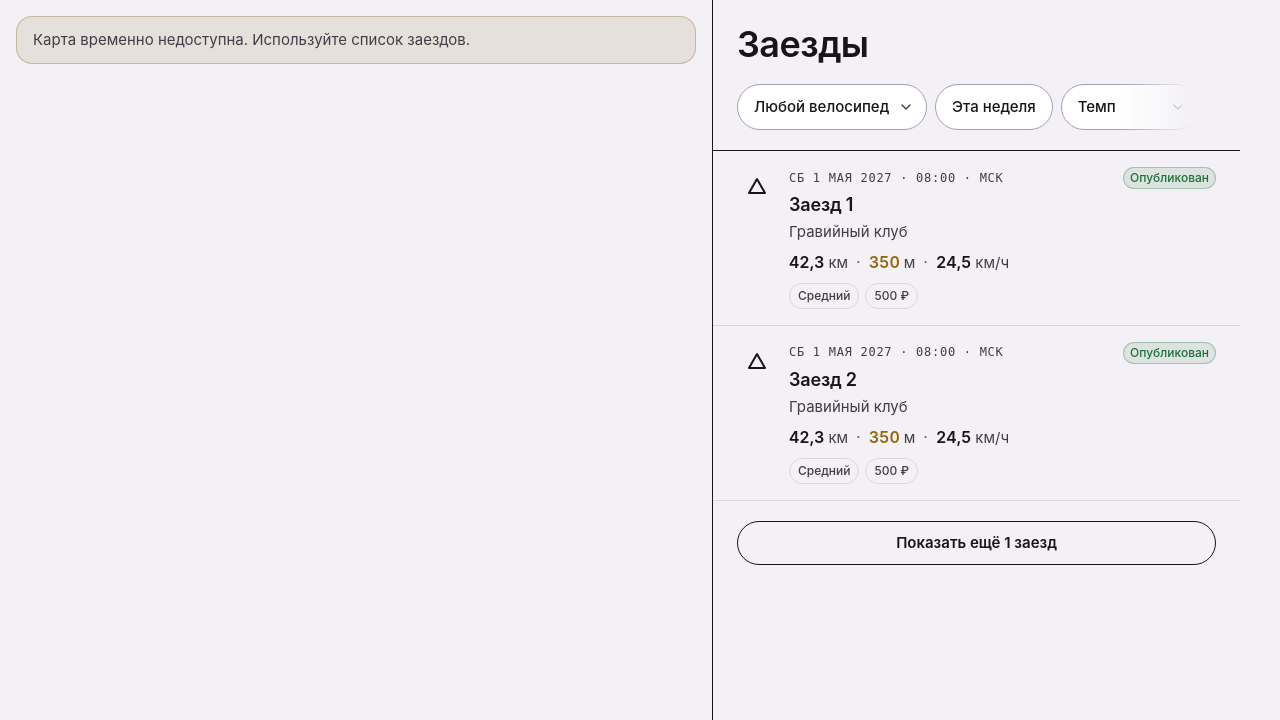
Scenario: DiscoveryList › pagination › offers «Показать ещё», appends the next page with the same query and cursor, and hides the button at the end
Expected: the link "Заезд 1" is shown, [789, 194, 853, 215]
Click the button "Показать ещё 1 заезд" at [976, 543], box [737, 521, 1216, 565]
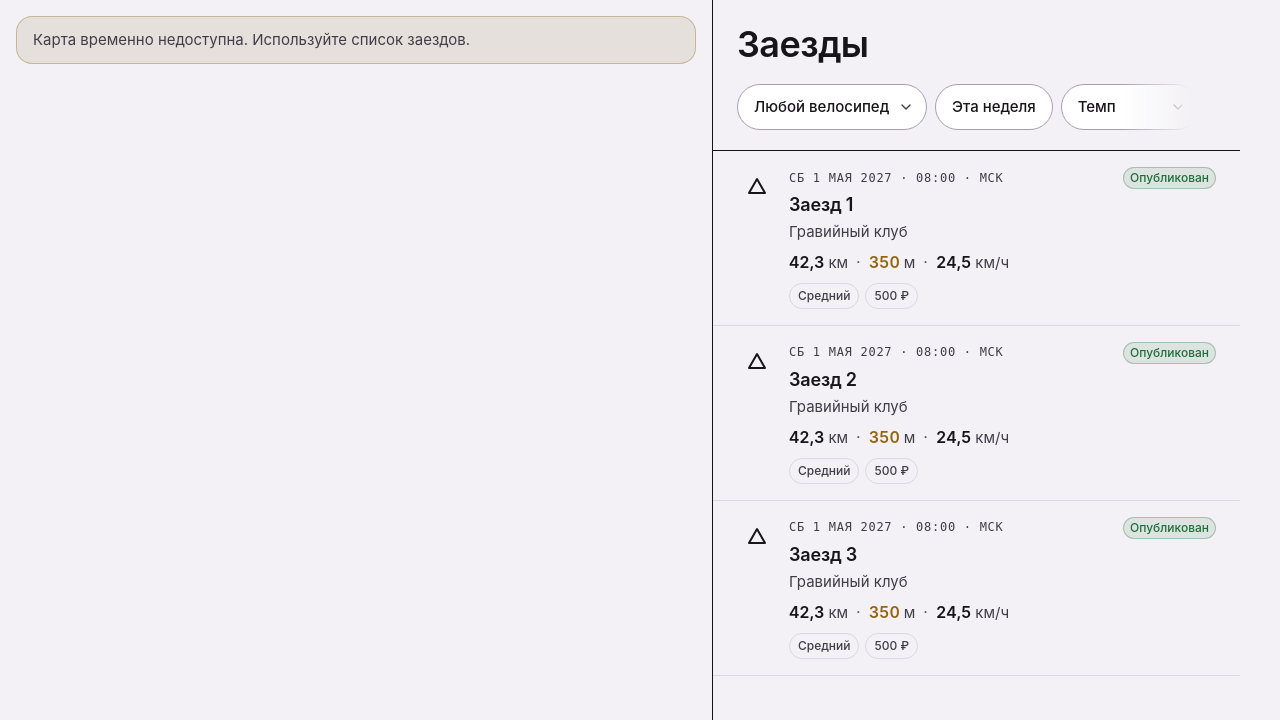
Expected: the link "Заезд 1" is shown, [789, 194, 853, 215]
Expected: the link "Заезд 3" is shown, [789, 544, 857, 565]
Expected: the button "Показать ещё" is gone
